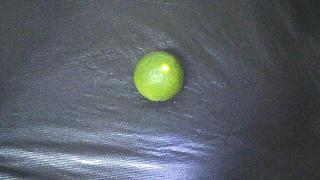LOCAL: (133, 51, 184, 101)
